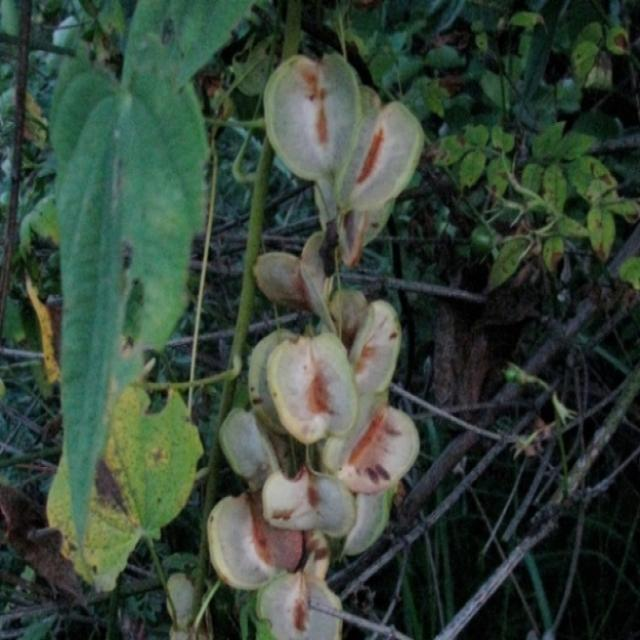Yam: (190, 300, 496, 626), (26, 39, 228, 432), (218, 70, 409, 290)
